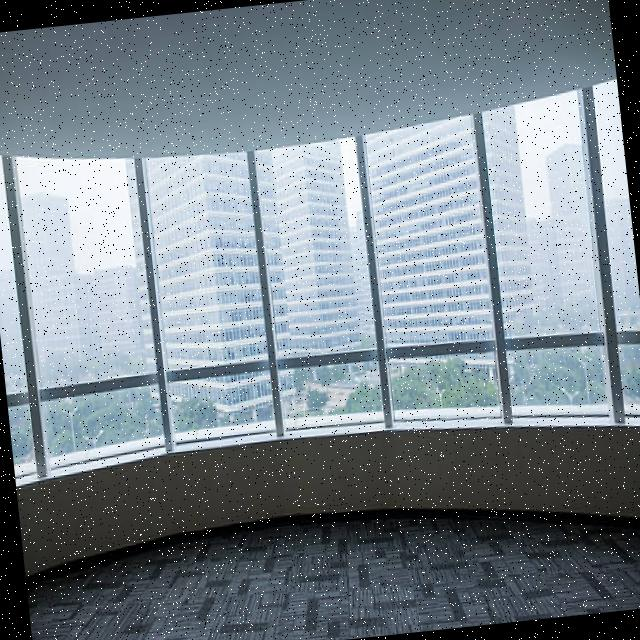Window: (0, 73, 640, 490)
